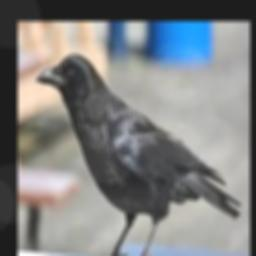Crow: (34, 51, 240, 256)
